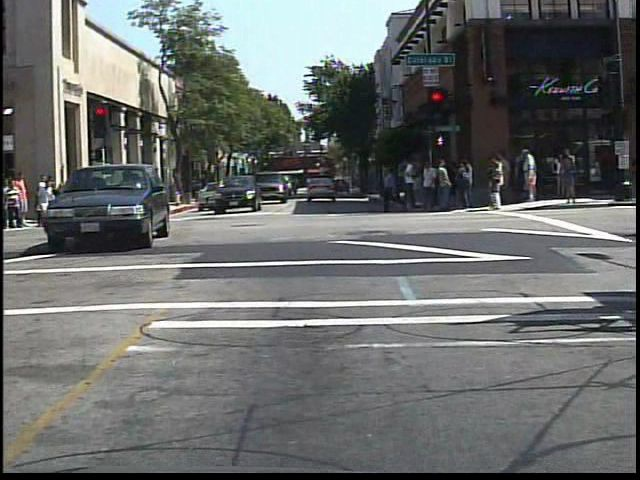person: (519, 147, 544, 206), (6, 178, 28, 232), (38, 174, 58, 217)
